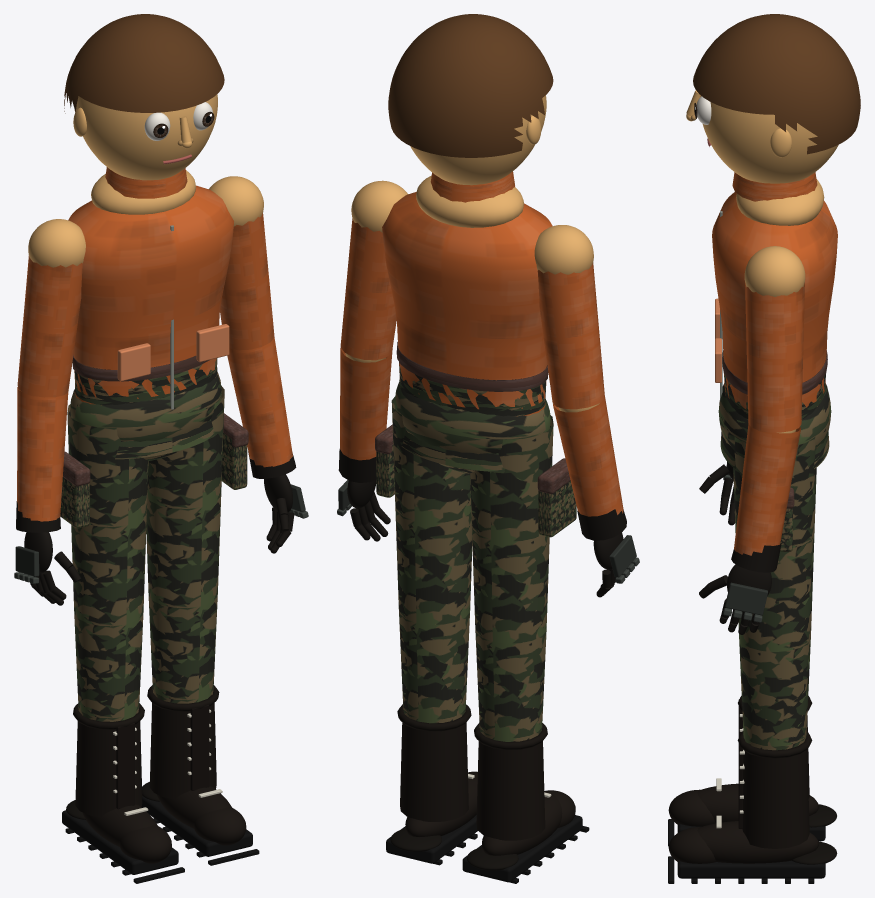
The model's file is 01-rangers.glb.
3 renders of one model, left to right at view 1: azimuth 30°, elevation 25°; view 2: azimuth 150°, elevation 25°; view 3: azimuth 270°, elevation 25°, orthographic. The views are drawn at different scales.
Bounding box in the file's own units: 0.6344 × 1.77 × 0.3715.
25 materials, 4 textured.
